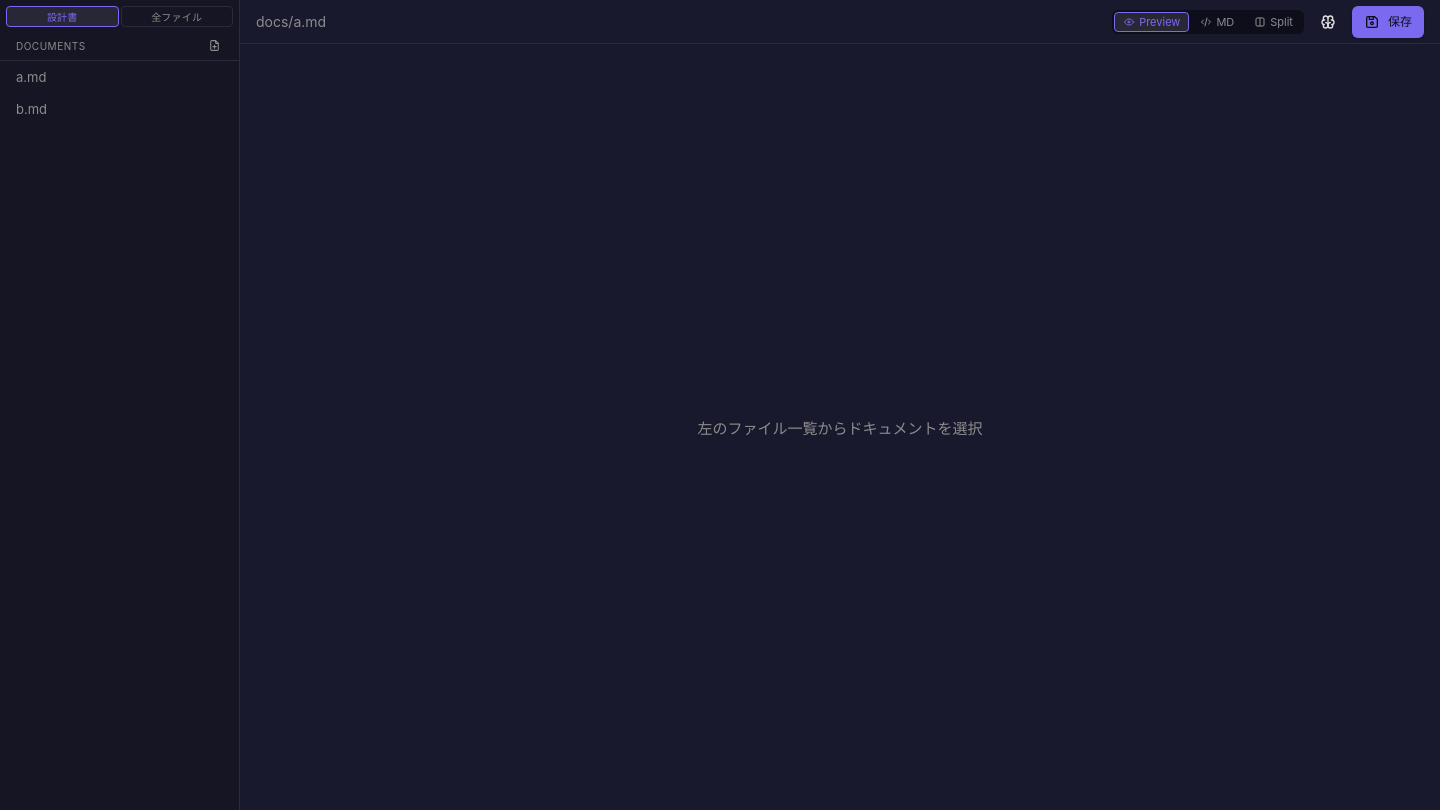
Scenario: EditorScreen — UnsavedWarningModal wire-up › モーダルの「破棄」をクリックすると setDirty(false) が呼ばれてから次のドキュメントが開く
The image size is (1440, 810).
Click the button "b.md".
click(107, 109)  # box [2,93,212,125]
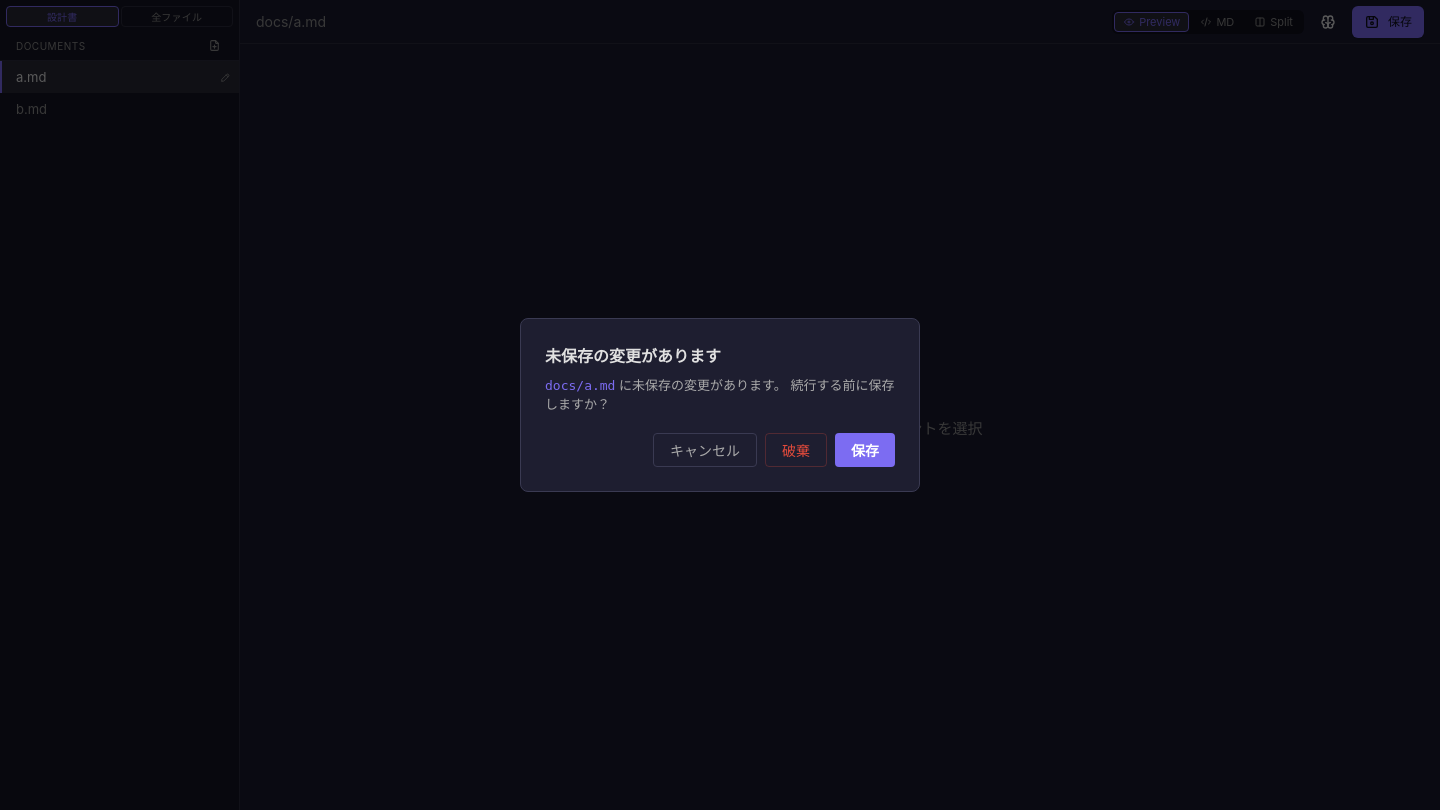
Expected: the dialog is shown, [520,318,920,492]
Click the button "破棄".
click(796, 450)  # box [765,433,827,467]
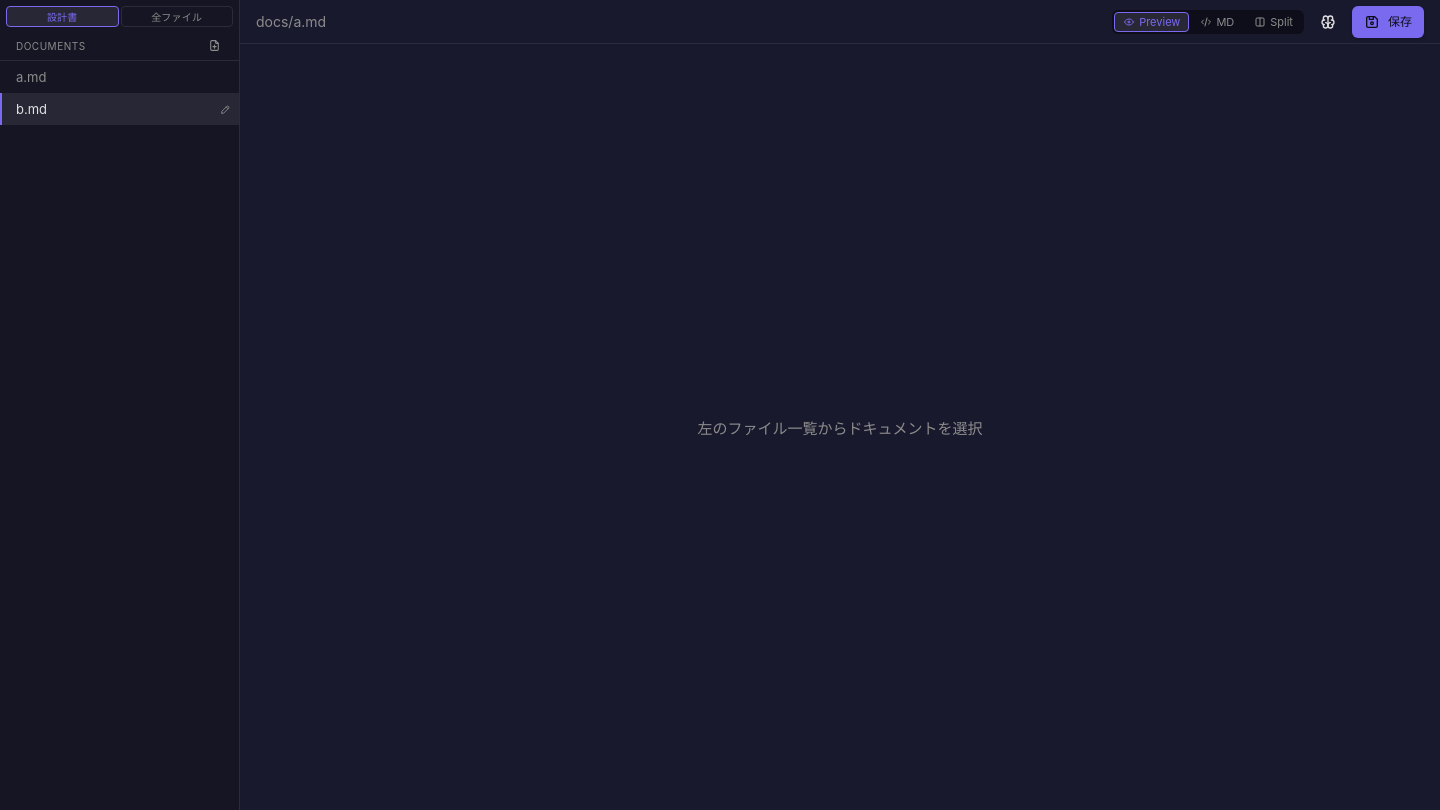
Expected: the dialog is gone
